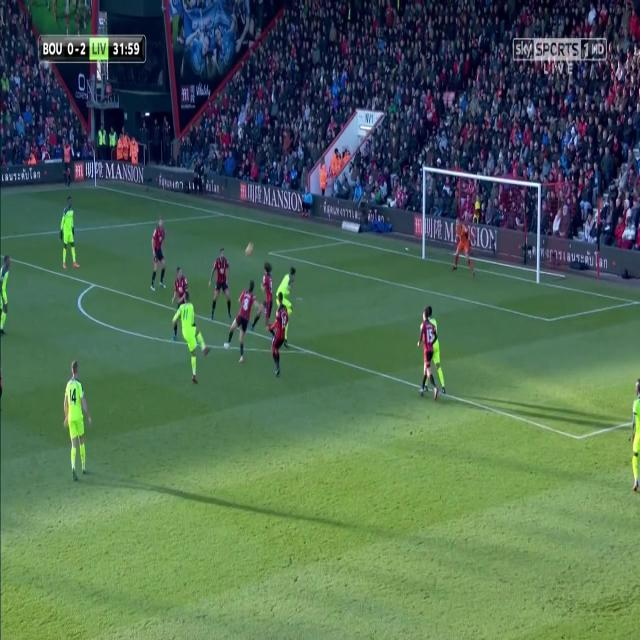Ball: (243, 238, 256, 260)
Goalkeeper: (449, 216, 475, 276)
Player: (60, 356, 94, 484), (172, 288, 212, 384), (222, 278, 256, 364), (416, 306, 442, 408), (145, 216, 170, 296), (268, 289, 289, 378), (249, 261, 274, 335), (208, 247, 232, 324), (58, 195, 81, 273), (0, 255, 14, 341), (630, 378, 640, 496), (274, 266, 298, 313), (172, 260, 189, 311)
